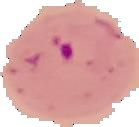parasitized: (41, 28, 128, 64)
